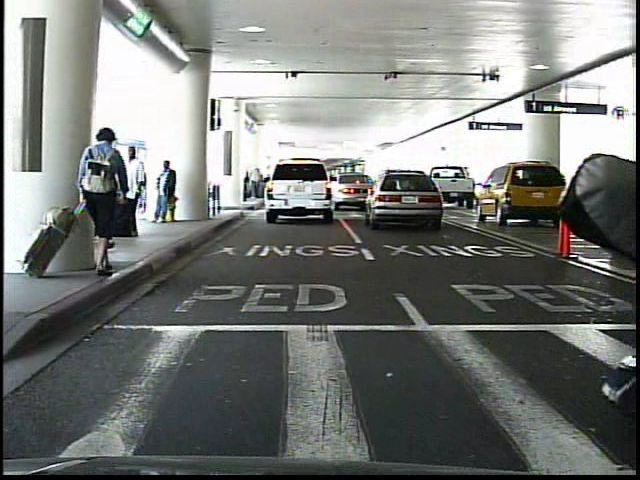person: (80, 126, 129, 280), (117, 145, 145, 239), (154, 161, 181, 229), (579, 165, 594, 213), (594, 166, 608, 211)
